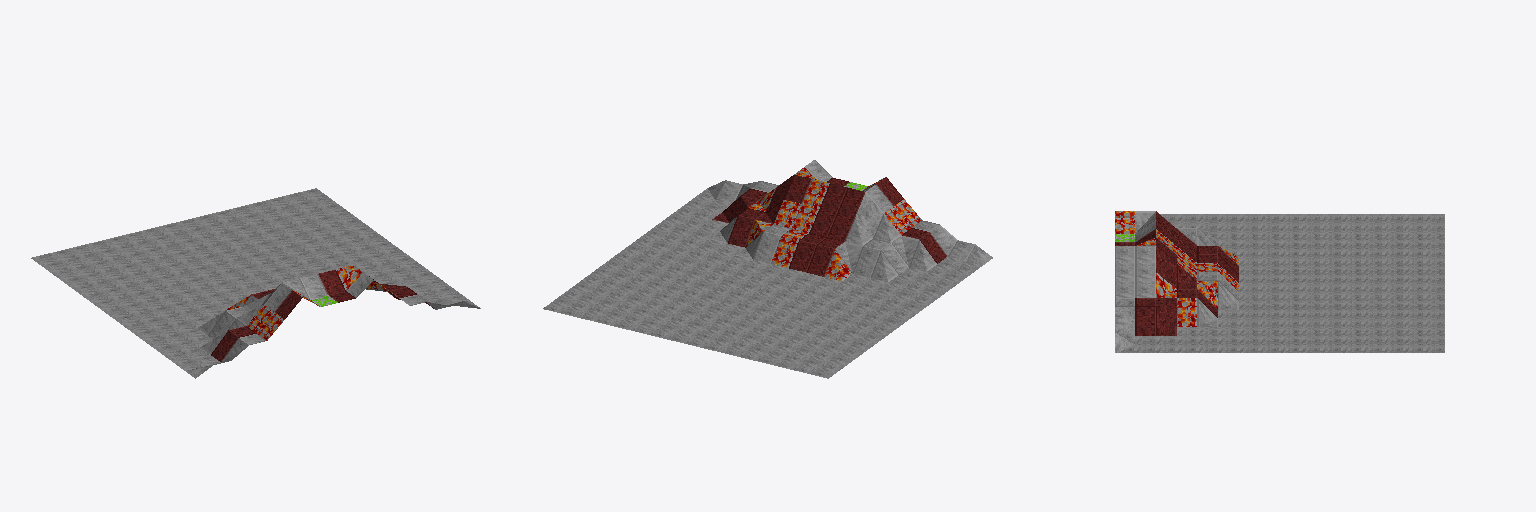
The picture shows the model from 3 angles: view 1: azimuth 30°, elevation 25°; view 2: azimuth 150°, elevation 25°; view 3: azimuth 270°, elevation 25°; orthographic projection.
Parts seen in each view (by area): view 1: sideRock_3; view 2: sideRock_3; view 3: sideRock_3.
Boxes of the visible parts, x1=… form: sideRock_3: x1=31, y1=188, x2=480, y2=378; sideRock_3: x1=543, y1=160, x2=992, y2=378; sideRock_3: x1=1115, y1=211, x2=1444, y2=352.
Size of the model in its own units: 16 by 2.93 by 16.
Materials: 10 (10 with a texture image).